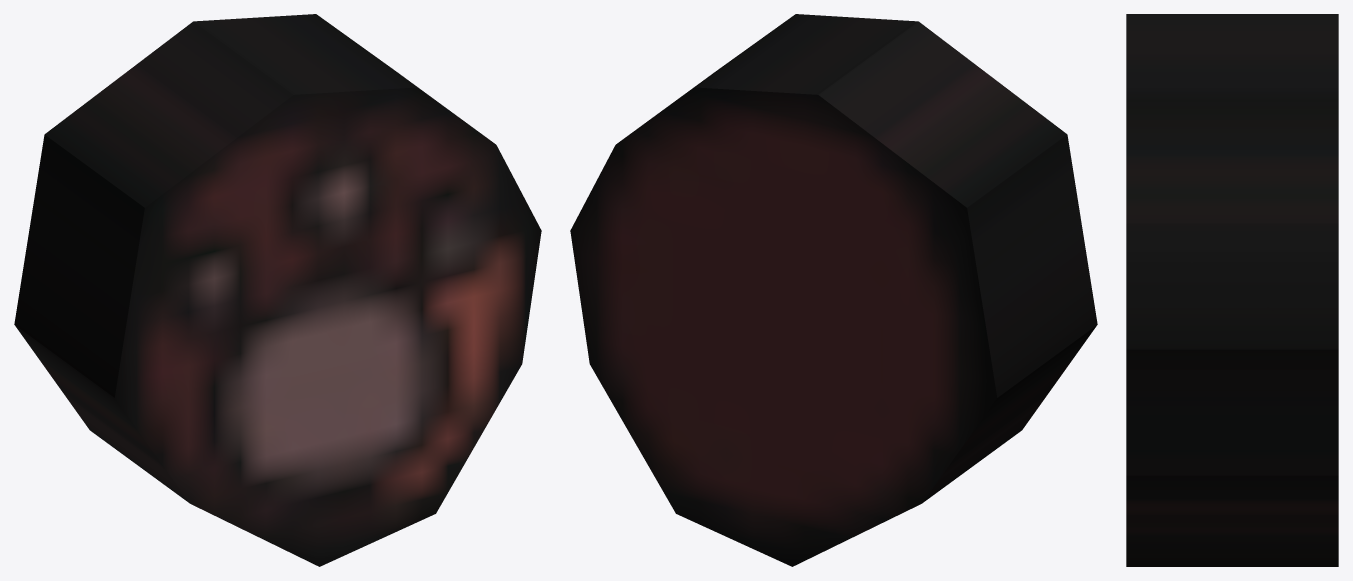
Rendered from cane_Hand.fbx.
The picture shows the model from 3 angles, left to right: view 1: azimuth 30°, elevation 25°; view 2: azimuth 150°, elevation 25°; view 3: azimuth 270°, elevation 25°; orthographic projection. The views are drawn at different scales.
Visible parts, largest first — view 1: polySurface65; view 2: polySurface65; view 3: polySurface65.
Boxes of the visible parts, <box> form: polySurface65: <box>14,14,541,566</box>; polySurface65: <box>570,14,1097,566</box>; polySurface65: <box>1126,14,1338,566</box>.
Size of the model in its own units: 0.0952 by 0.1019 by 0.0388.
